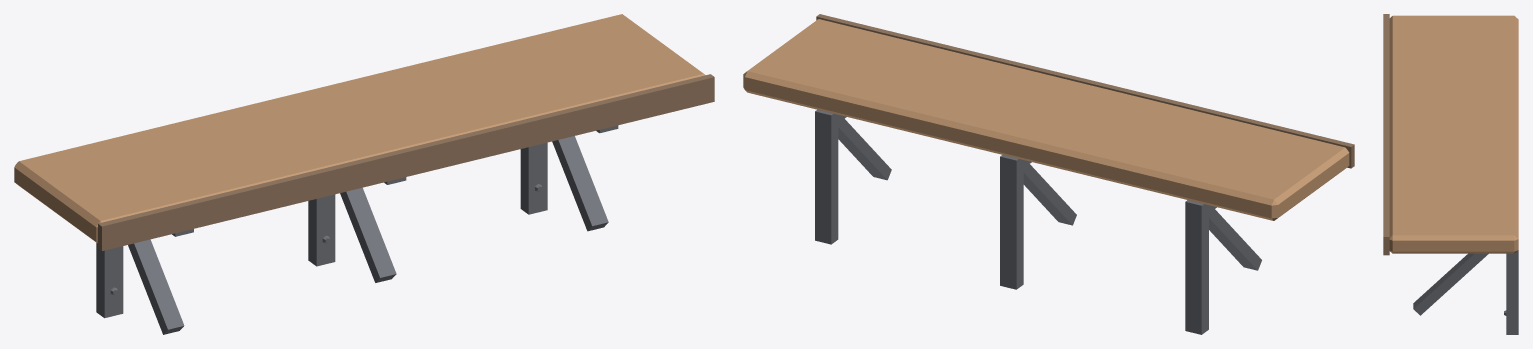
File: Garage_Shelf_Short.glb
3 renders of one model, left to right at view 1: azimuth 30°, elevation 25°; view 2: azimuth 150°, elevation 25°; view 3: azimuth 270°, elevation 25°, orthographic. The views are drawn at different scales.
Parts seen in each view (by area): view 1: Garage_Shelf_Short; view 2: Garage_Shelf_Short; view 3: Garage_Shelf_Short.
Boxes of the visible parts, x1,y1,x2,y2 form: Garage_Shelf_Short: (14,14,714,334); Garage_Shelf_Short: (743,14,1354,334); Garage_Shelf_Short: (1383,14,1518,334).
Bounding box in the file's own units: 1.3 × 0.35 × 0.3325.
